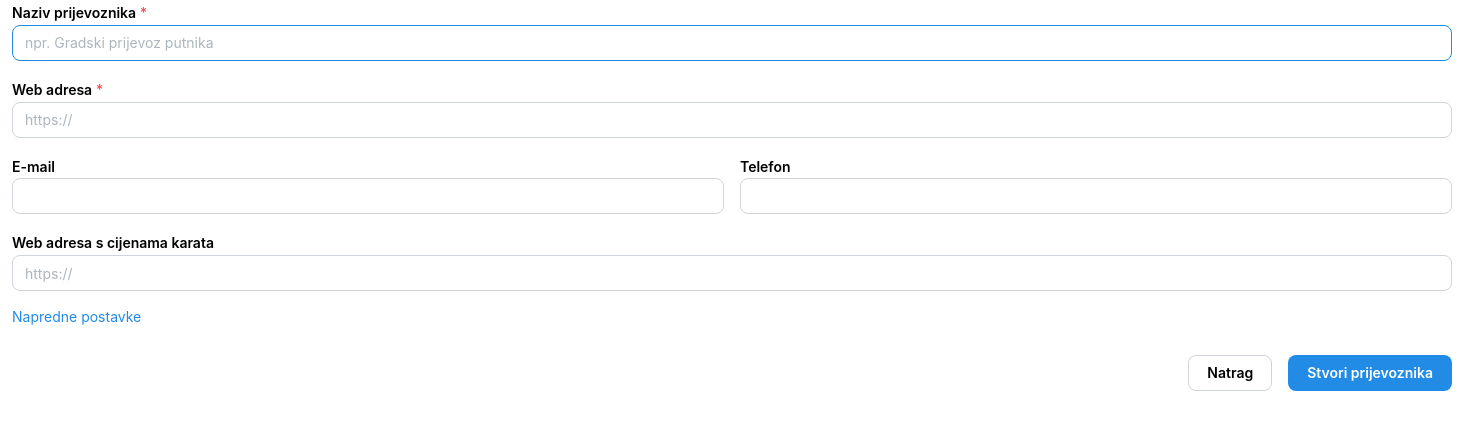
it: BlankSetupForm › requires a name and a web address
What coordinates should you click on to do the following:
click the button "Stvori prijevoznika"
I would click on:
 (1370, 374)
Its box is [1288, 356, 1452, 392].
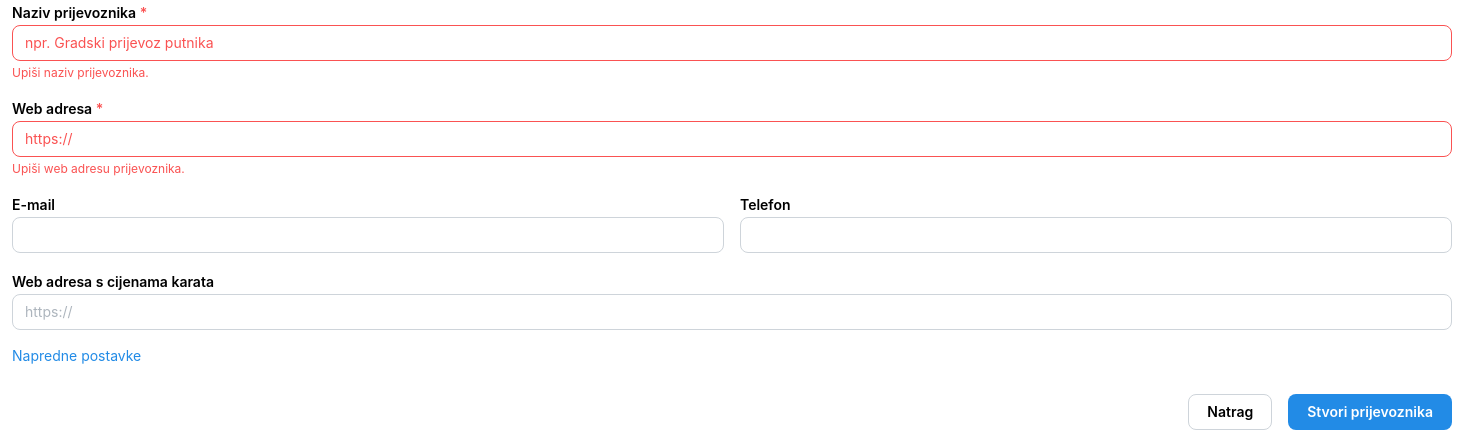
Now the text "Upiši naziv prijevoznika." is shown, box [12, 65, 149, 80]
Now the text "Upiši web adresu prijevoznika." is shown, box [12, 161, 185, 176]
